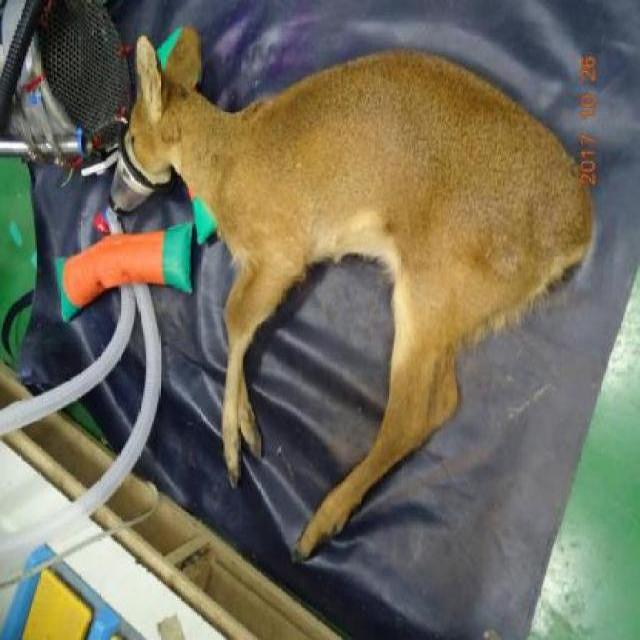deer: (108, 21, 590, 579)
